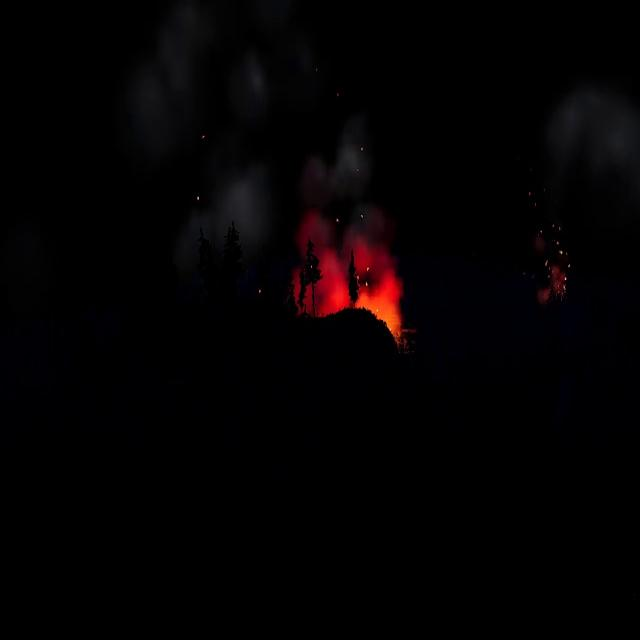fire: (351, 270, 409, 349), (540, 262, 568, 303)
smoke: (132, 0, 298, 289), (533, 75, 640, 304), (290, 124, 397, 323)
